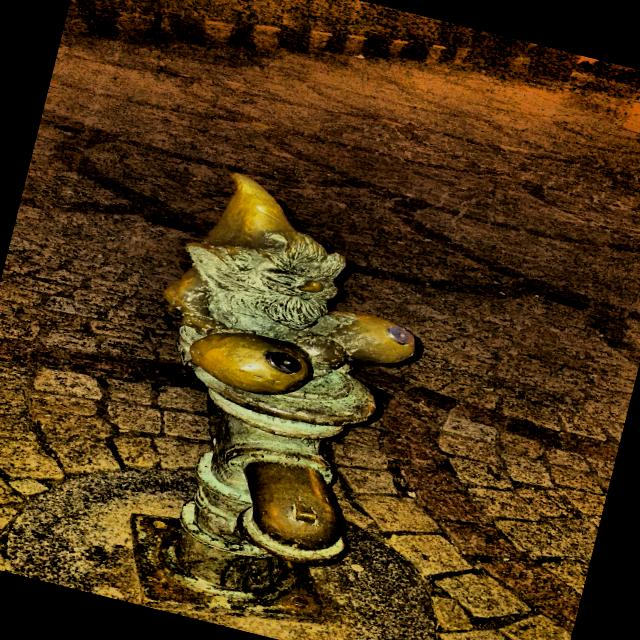Orzezwiacz: (128, 174, 418, 625)
